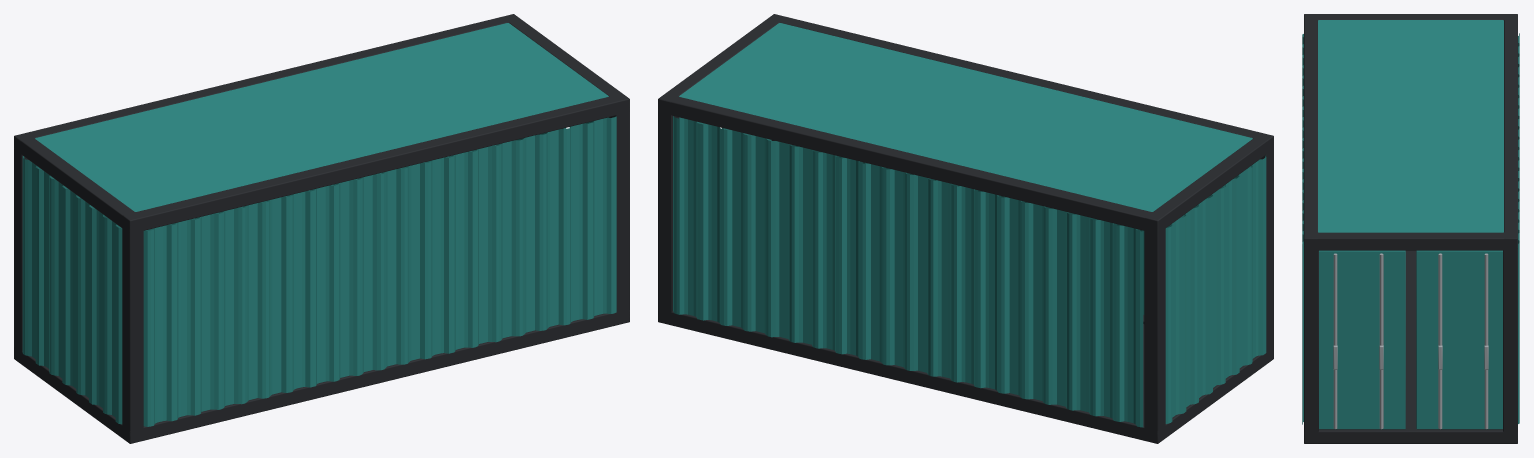
Rendered from container_teal.fbx.
3 renders of one model, left to right at view 1: azimuth 30°, elevation 25°; view 2: azimuth 150°, elevation 25°; view 3: azimuth 270°, elevation 25°, orthographic. The views are drawn at different scales.
Parts seen in each view (by area): view 1: container_teal; view 2: container_teal; view 3: container_teal.
Part boxes in pixels (<box>): container_teal: <box>14,14,629,443</box>; container_teal: <box>658,14,1273,443</box>; container_teal: <box>1302,14,1519,443</box>.
Size of the model in its own units: 6.12 by 2.59 by 2.48.
